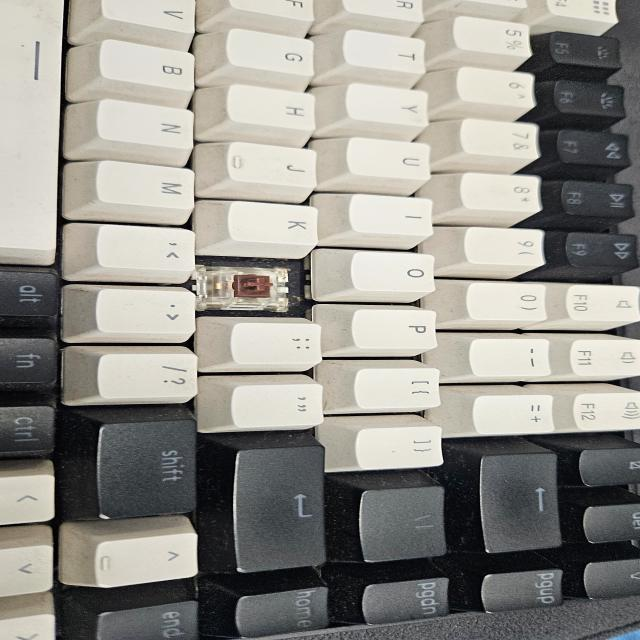C: (212, 262, 300, 306)
